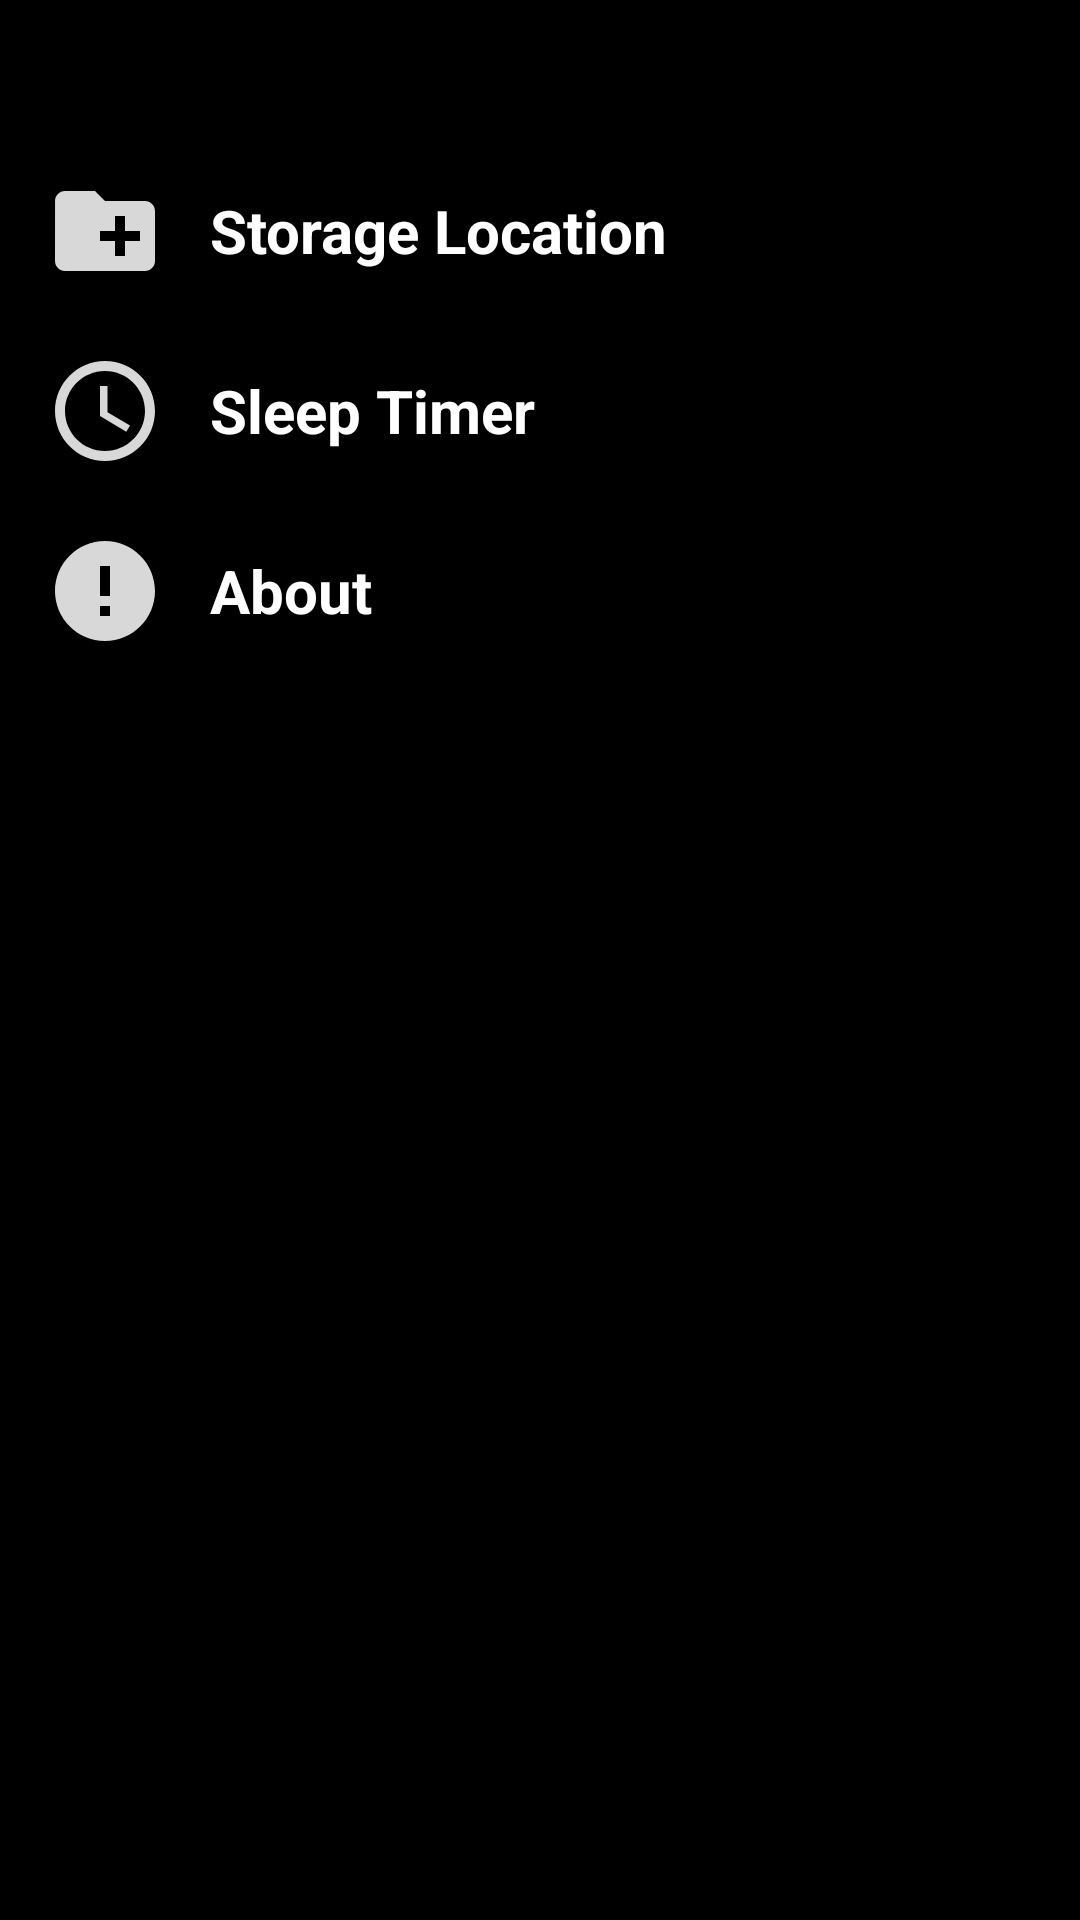

Where icons sit on this 1080×1920 app screen, as (x1, y1, x2, y2):
set storage path: (55, 191, 155, 271)
